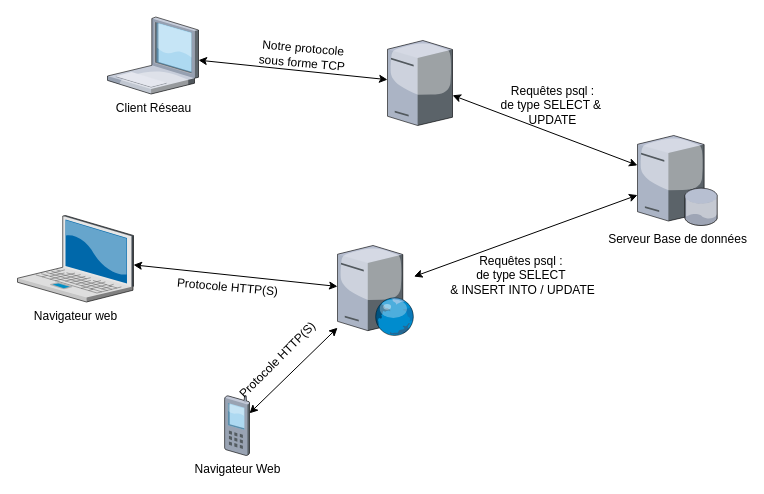
Image size: 764x494. Some labels were removed from this diagram. The shapes that lost their labels are listed below. From the top down, each one's centre as x and y in pixels, then its label:
the point at 419,82: Serveur Réseau
the point at 375,290: Serveur Web
